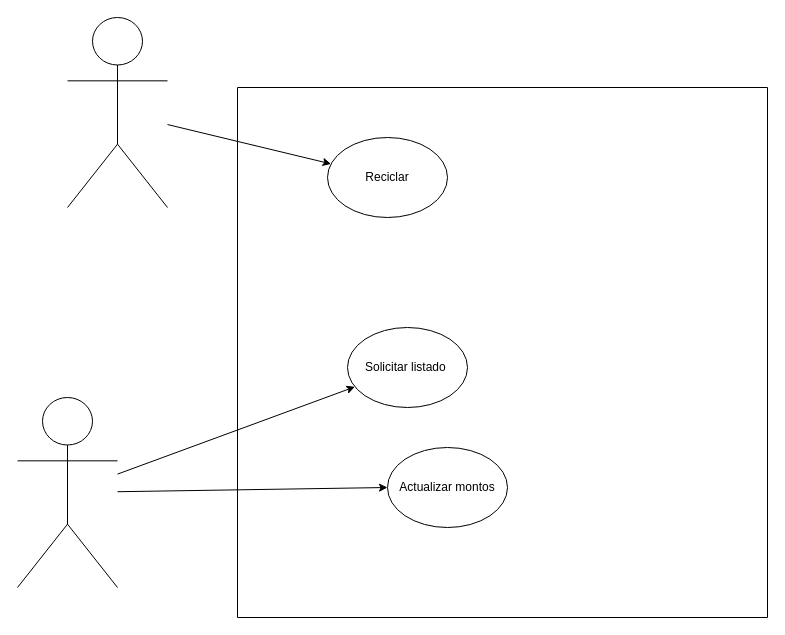
Image size: 785x635. Some labels were removed from this diagram. The shapes that lost their labels are listed below. From the top down, each one's centre as x and y in pixels, then its label:
At point (117, 112): "Usuario".
At point (67, 492): "Operador".
